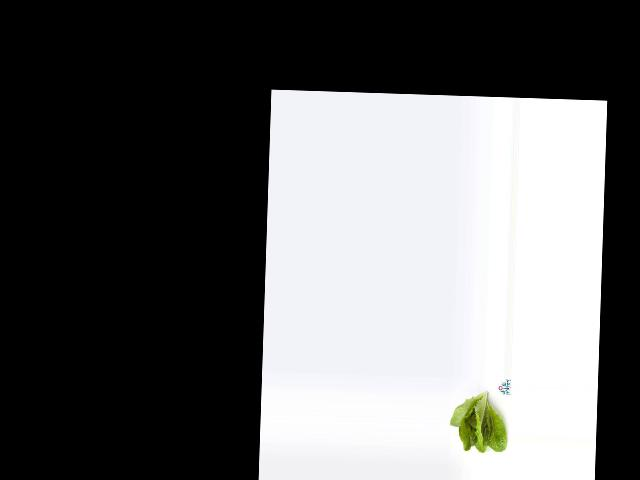lettuce: (448, 390, 507, 455)
